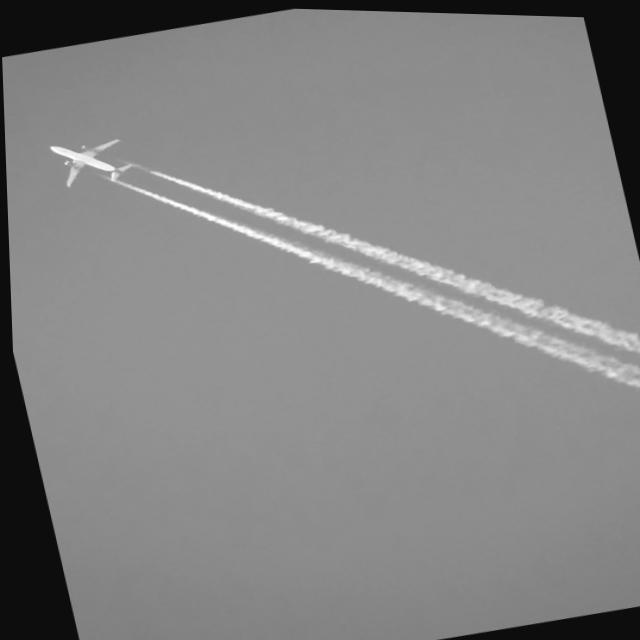aeroplane: (41, 127, 139, 198)
